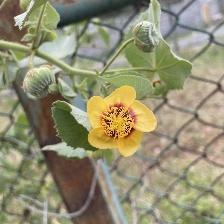indian mallow: (88, 83, 157, 157)
